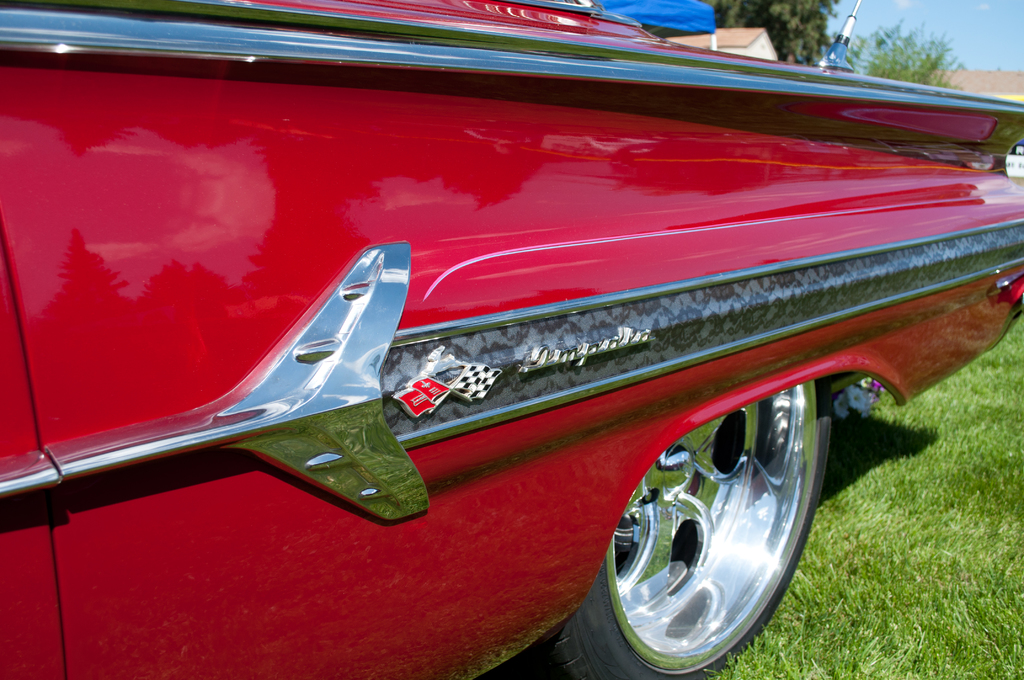cars: (0, 37, 987, 679)
